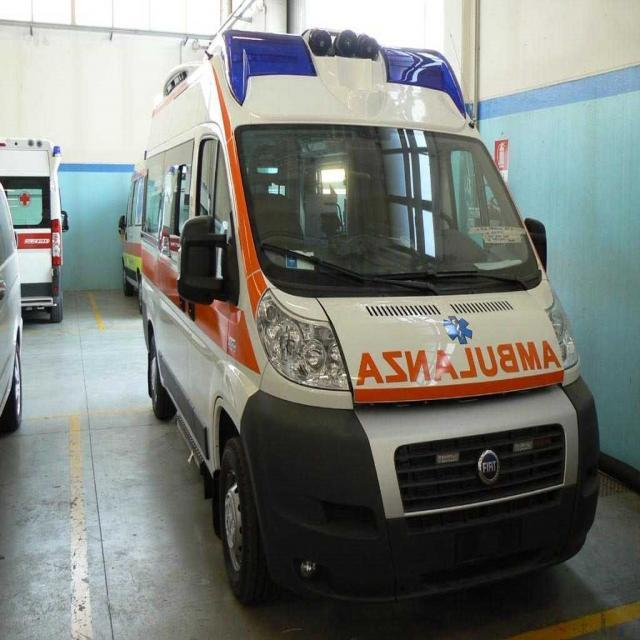emergency-vehicle: (136, 31, 602, 596)
